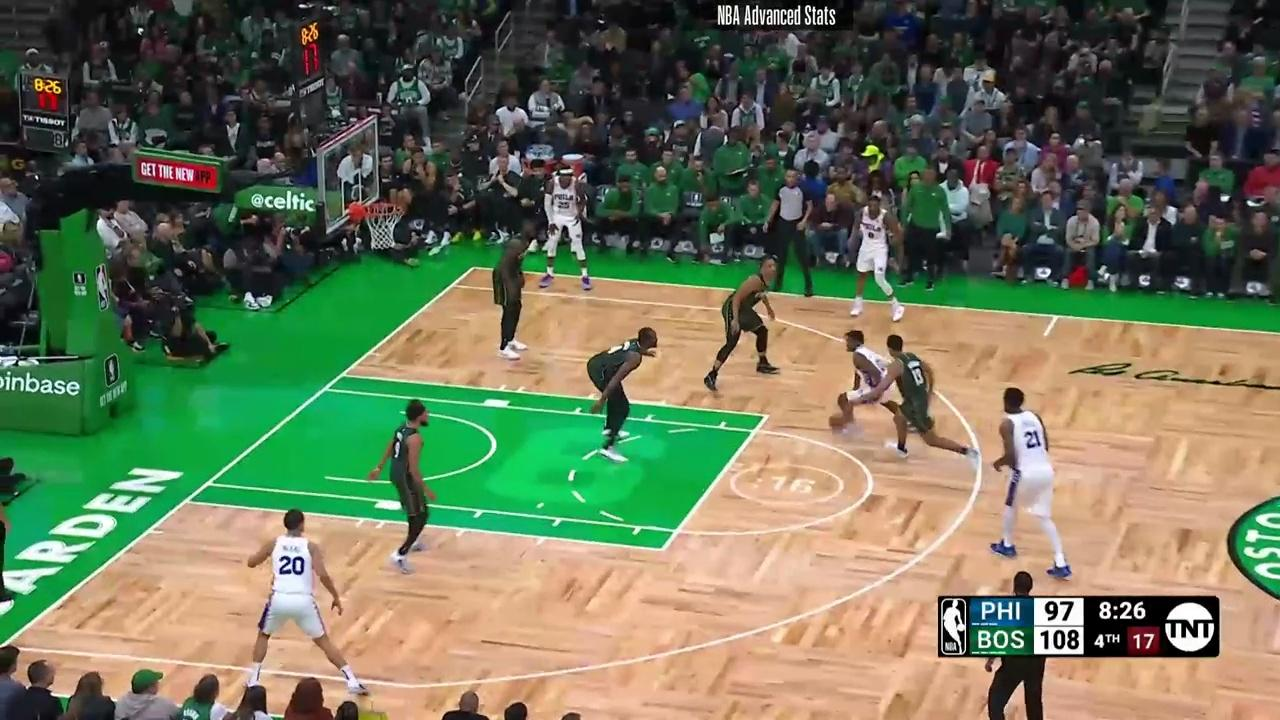Backboard: (317, 115, 381, 239)
Ball: (829, 414, 845, 431)
Basket: (358, 203, 408, 250)
Dribble: (831, 427, 843, 434)
Person: (237, 508, 373, 701), (983, 381, 1077, 585), (878, 327, 983, 472), (693, 249, 789, 397), (366, 396, 441, 575), (584, 322, 660, 468), (843, 189, 917, 327), (489, 207, 540, 368), (538, 162, 598, 296), (839, 327, 906, 429)
Referee: (760, 168, 821, 304)
Shot Clock: (17, 70, 68, 142), (288, 20, 329, 99)
